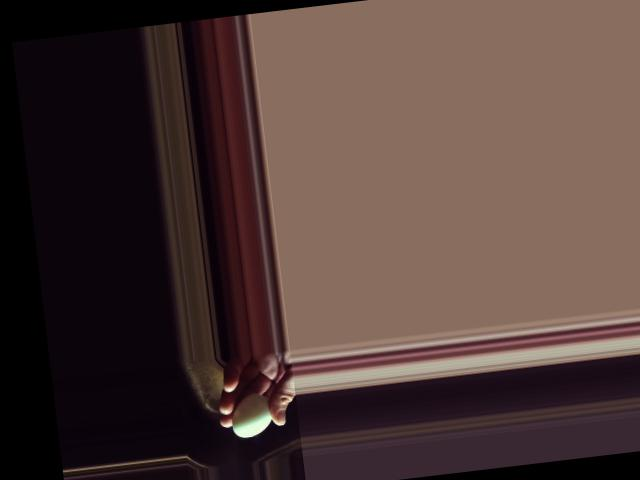egg: (229, 392, 274, 438)
